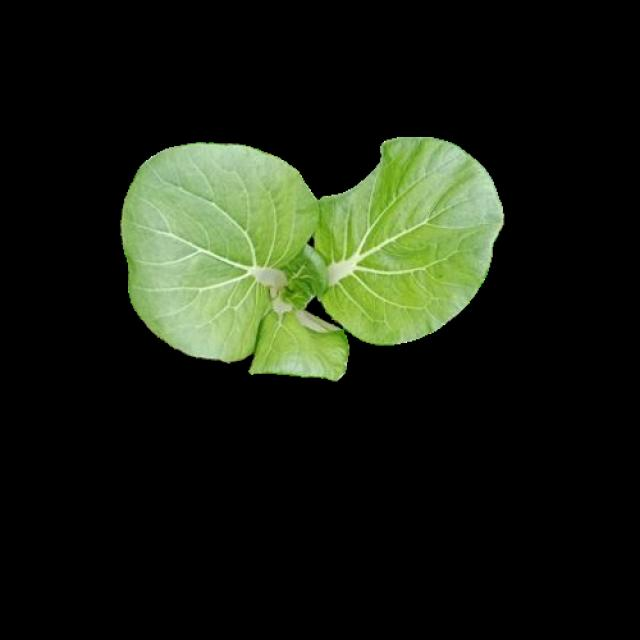healthy: (119, 136, 503, 376)
not-mature: (122, 138, 506, 379)
